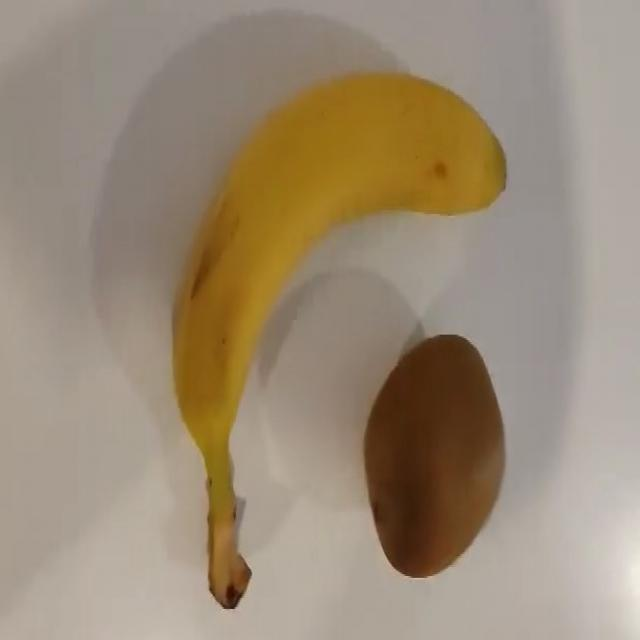Banana: (170, 69, 507, 609)
